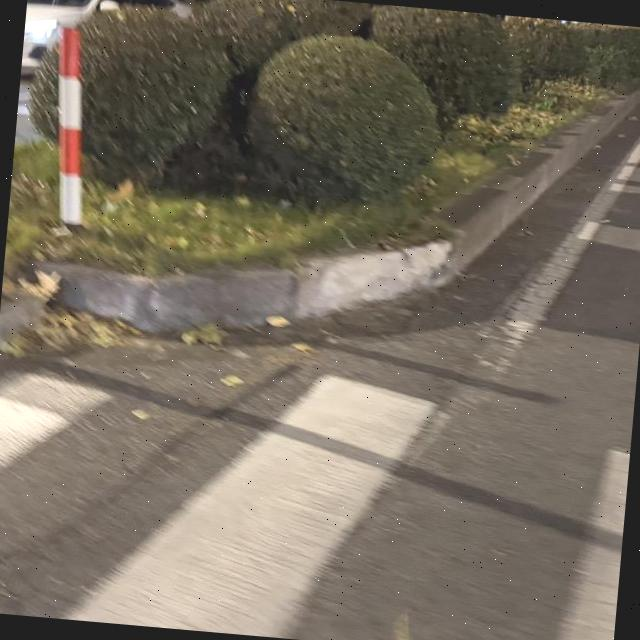curb: (40, 86, 640, 333)
